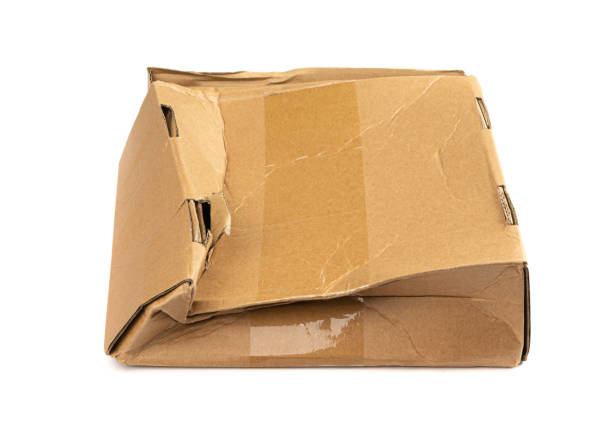damaged package: (148, 69, 323, 304), (108, 260, 417, 355)
